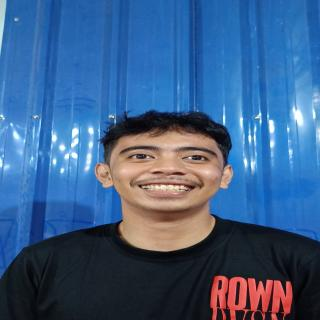Senang: (103, 125, 237, 216)
